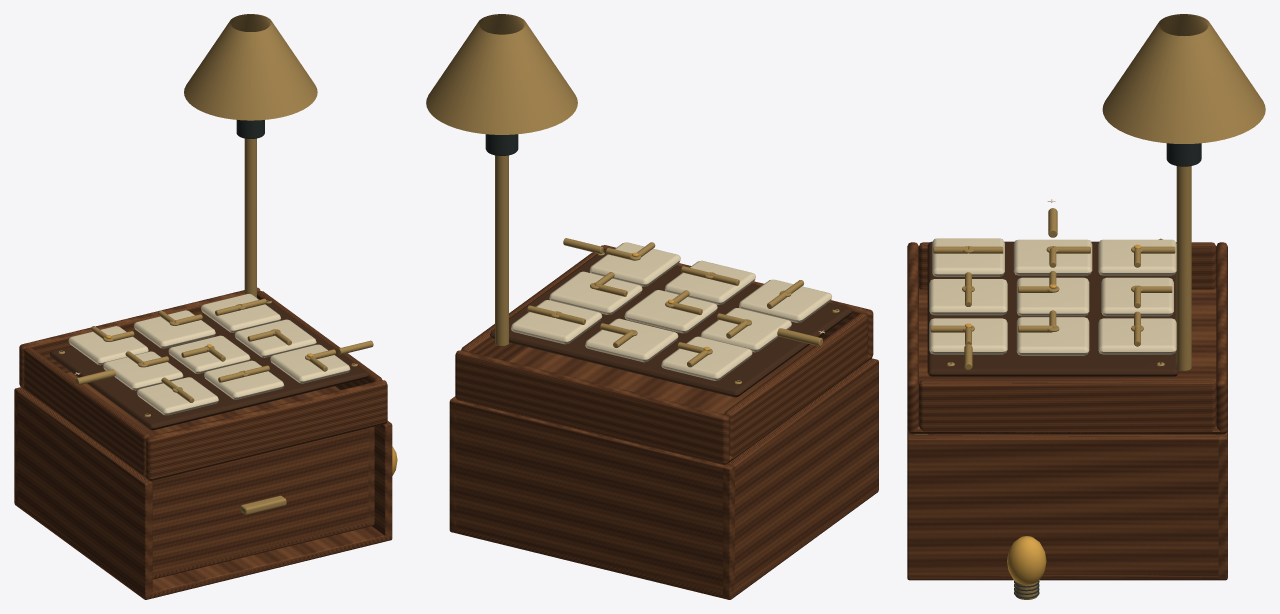
The model's file is P04_WiringLamp.fbx.
3 renders of one model, left to right at view 1: azimuth 30°, elevation 25°; view 2: azimuth 150°, elevation 25°; view 3: azimuth 270°, elevation 25°, orthographic. The views are drawn at different scales.
Parts seen in each view (by area): view 1: LampRewardDrawer_End.002, Storage cabinet side.006, Lamp puzzle base_Front.001, Brass shade.001, Circuit inset.001, Lamp puzzle base_Side.002, Storage cabinet base.003, Lamp puzzle base_Bottom.001, Storage cabinet side.007, Lamp puzzle base_Back.001, Lamp stem.001, Ceramic tile.015 (+13 smaller); view 2: Storage cabinet back.003, Storage cabinet side.006, Lamp puzzle base_Back.001, Brass shade.001, Circuit inset.001, Lamp puzzle base_Side.002, Lamp puzzle base_Bottom.001, Lamp stem.001, Ceramic tile.015, Storage cabinet base.003, Ceramic tile.013, Ceramic tile.010 (+10 smaller); view 3: Storage cabinet side.007, Lamp puzzle base_Side.003, Brass shade.001, Circuit inset.001, Lamp puzzle base_Bottom.001, Lamp stem.001, Ceramic tile.016, Ceramic tile.011, Ceramic tile.013, Ceramic tile.014, Ceramic tile.012, Ceramic tile.009 (+10 smaller).
Boxes of the visible parts, bbox=[...] form: LampRewardDrawer_End.002: bbox=[151, 427, 374, 579]; Storage cabinet side.006: bbox=[14, 387, 152, 599]; Lamp puzzle base_Front.001: bbox=[146, 380, 387, 479]; Brass shade.001: bbox=[184, 14, 317, 120]; Circuit inset.001: bbox=[50, 299, 368, 430]; Lamp puzzle base_Side.002: bbox=[24, 347, 150, 474]; Storage cabinet base.003: bbox=[14, 500, 392, 599]; Lamp puzzle base_Bottom.001: bbox=[20, 372, 387, 480]; Storage cabinet side.007: bbox=[372, 421, 392, 541]; Lamp puzzle base_Back.001: bbox=[19, 287, 260, 387]; Lamp stem.001: bbox=[244, 138, 256, 297]; Ceramic tile.015: bbox=[136, 377, 218, 415]; Storage cabinet back.003: bbox=[452, 397, 734, 598]; Storage cabinet side.006: bbox=[723, 358, 878, 599]; Lamp puzzle base_Back.001: bbox=[455, 350, 729, 464]; Brass shade.001: bbox=[426, 14, 577, 134]; Circuit inset.001: bbox=[490, 248, 851, 397]; Lamp puzzle base_Side.002: bbox=[724, 313, 867, 459]; Lamp puzzle base_Bottom.001: bbox=[455, 344, 871, 464]; Lamp stem.001: bbox=[495, 155, 508, 346]; Ceramic tile.015: bbox=[739, 279, 831, 322]; Storage cabinet base.003: bbox=[449, 487, 878, 599]; Ceramic tile.013: bbox=[624, 290, 717, 333]; Ceramic tile.010: bbox=[585, 318, 678, 362]; Storage cabinet side.007: bbox=[907, 434, 1227, 576]; Lamp puzzle base_Side.003: bbox=[919, 380, 1216, 434]; Brass shade.001: bbox=[1102, 14, 1265, 143]; Circuit inset.001: bbox=[927, 241, 1178, 376]; Lamp puzzle base_Bottom.001: bbox=[907, 288, 1227, 434]; Lamp stem.001: bbox=[1176, 166, 1191, 371]; Ceramic tile.016: bbox=[929, 279, 1007, 315]; Ceramic tile.011: bbox=[1098, 318, 1176, 354]; Ceramic tile.013: bbox=[1016, 277, 1089, 316]; Ceramic tile.014: bbox=[1016, 317, 1089, 355]; Ceramic tile.012: bbox=[1013, 239, 1092, 275]; Ceramic tile.009: bbox=[1098, 239, 1176, 275].
Size of the model in its own units: 0.7507 by 1.02 by 0.615.
Materials: 6 (1 with a texture image).
